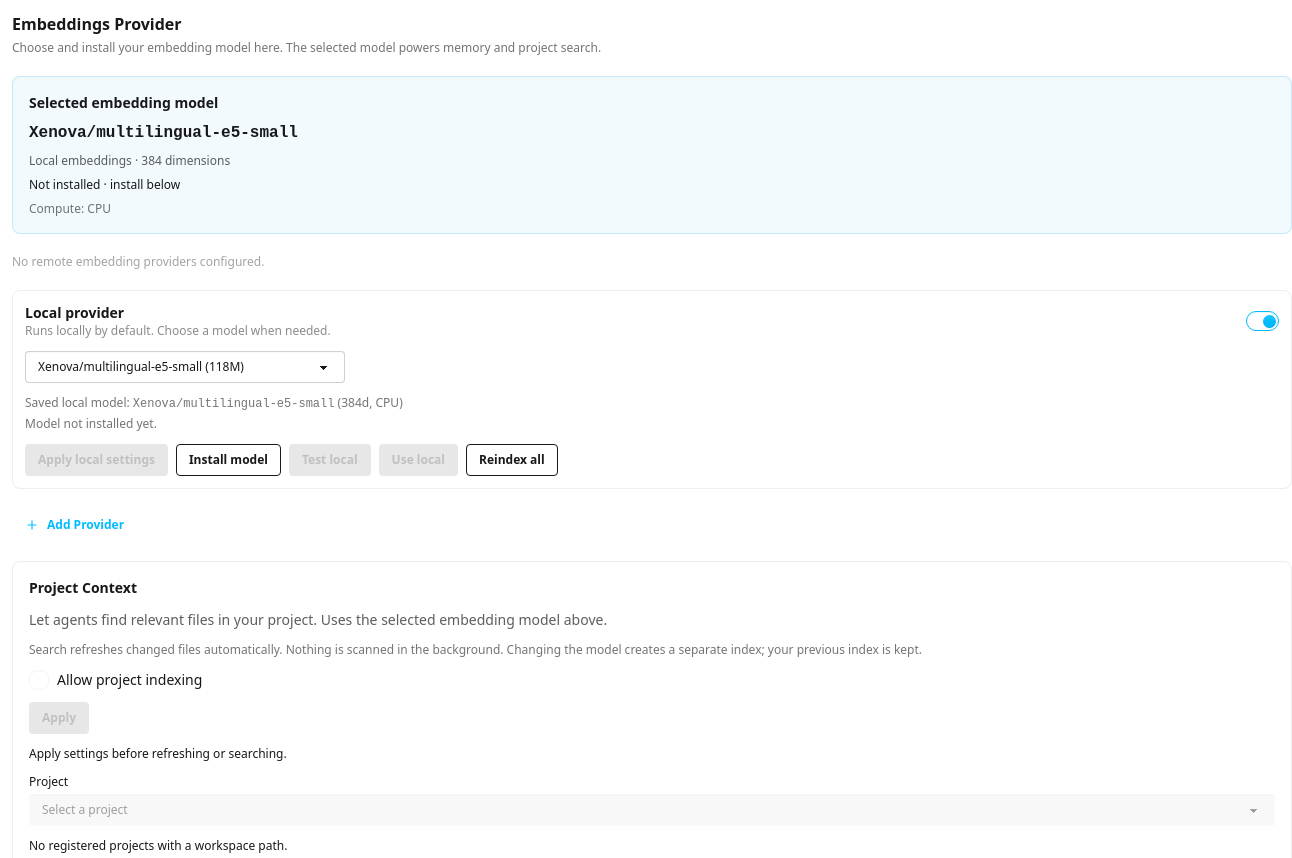
Test case: EmbeddingsPanel › starts local install and shows an indeterminate progress indicator while installing
The width and height of the screenshot is (1292, 858).
Click the button with test id "embedding-local-install-btn": click(228, 460) 176,444 -> 281,476
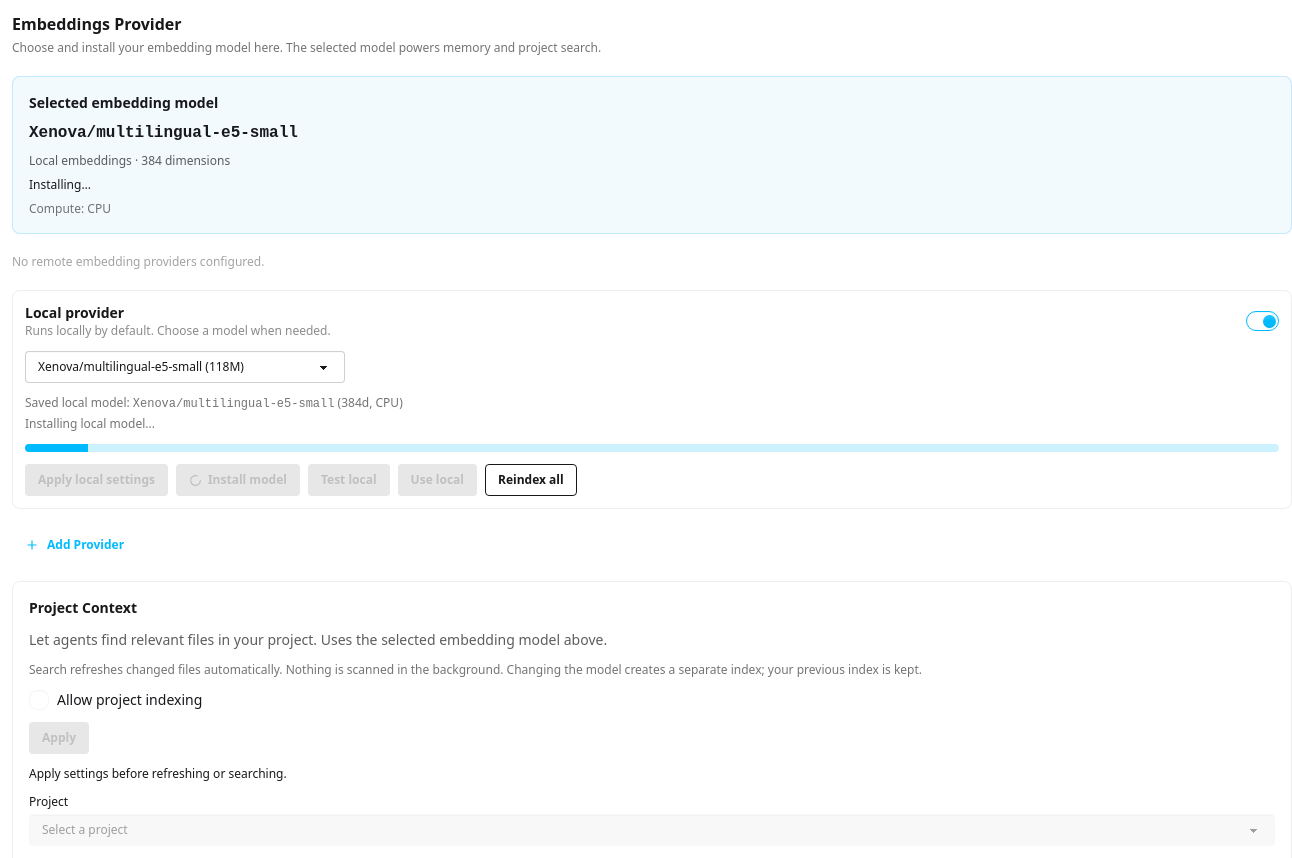
Expected: the button with test id "embedding-local-test-btn" is disabled, 308,464 -> 390,496
Now the progress indicator with test id "embedding-local-install-progress" is shown, box 25,444 -> 1279,452
Now the text with test id "embedding-local-availability-message" reads "Installing local model...", box 25,415 -> 155,432
